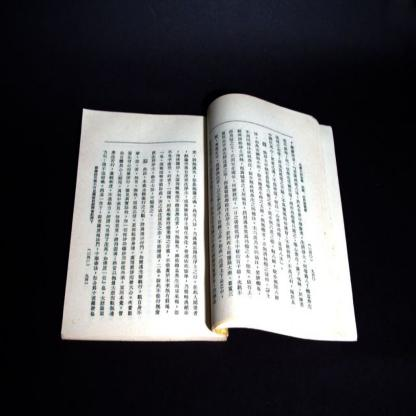book: (58, 94, 358, 344)
